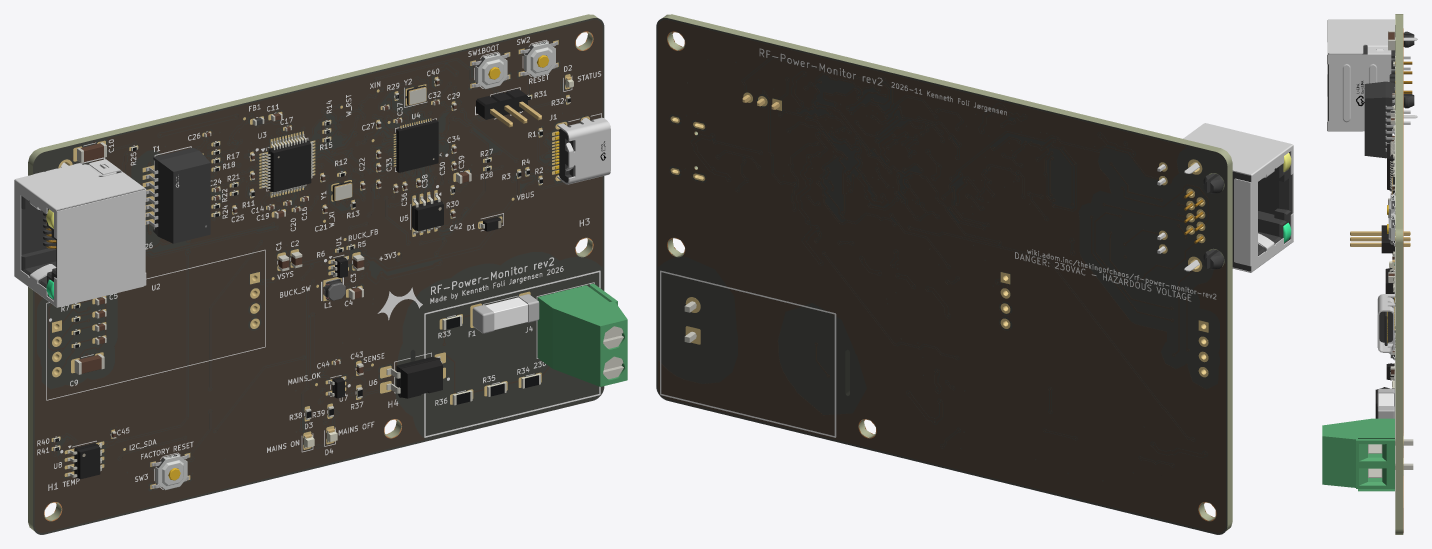
File: rf-power-monitor-rev2.glb
The picture shows the model from 3 angles, left to right: view 1: azimuth 30°, elevation 25°; view 2: azimuth 150°, elevation 25°; view 3: azimuth 270°, elevation 25°; orthographic projection. The views are drawn at different scales.
Visible parts, largest first — view 1: =>[0:1:1:79], =>[0:1:1:74], =>[0:1:1:81], =>[0:1:1:63], =>[0:1:1:77], =>[0:1:1:69], adom-aiflow silk clip, =>[0:1:1:18], =>[0:1:1:38], =>[0:1:1:3] (×3), =>[0:1:1:42], =>[0:1:1:59] (×2) (+5 smaller); view 2: =>[0:1:1:80], =>[0:1:1:74], =>[0:1:1:81], =>[0:1:1:63], =>[0:1:1:78], adom-aiflow silk clip, =>[0:1:1:75]; view 3: =>[0:1:1:63], =>[0:1:1:69], =>[0:1:1:81], =>[0:1:1:18], =>[0:1:1:38], =>[0:1:1:65], =>[0:1:1:71], =>[0:1:1:74], =>[0:1:1:3] (×2), =>[0:1:1:42], =>[0:1:1:59], =>[0:1:1:22].
Boxes of the visible parts, left/top/right/bottom form: =>[0:1:1:79]: left=33, top=18, right=604, bottom=534; =>[0:1:1:74]: left=35, top=20, right=601, bottom=532; =>[0:1:1:81]: left=28, top=14, right=603, bottom=533; =>[0:1:1:63]: left=14, top=159, right=146, bottom=307; =>[0:1:1:77]: left=33, top=36, right=601, bottom=490; =>[0:1:1:69]: left=537, top=283, right=627, bottom=386; adom-aiflow silk clip: left=51, top=40, right=589, bottom=489; =>[0:1:1:18]: left=146, top=147, right=210, bottom=243; =>[0:1:1:38]: left=555, top=117, right=610, bottom=184; =>[0:1:1:3] (×3): left=151, top=41, right=557, bottom=490; =>[0:1:1:42]: left=261, top=133, right=313, bottom=195; =>[0:1:1:59] (×2): left=67, top=192, right=443, bottom=479; =>[0:1:1:80]: left=656, top=18, right=1227, bottom=534; =>[0:1:1:74]: left=658, top=20, right=1225, bottom=532; =>[0:1:1:81]: left=657, top=14, right=1232, bottom=533; =>[0:1:1:63]: left=1157, top=123, right=1293, bottom=272; =>[0:1:1:78]: left=660, top=48, right=1216, bottom=437; adom-aiflow silk clip: left=670, top=92, right=1208, bottom=377; =>[0:1:1:75]: left=671, top=94, right=1208, bottom=375; =>[0:1:1:63]: left=1327, top=19, right=1417, bottom=131; =>[0:1:1:69]: left=1322, top=418, right=1413, bottom=491; =>[0:1:1:81]: left=1395, top=14, right=1403, bottom=534; =>[0:1:1:18]: left=1364, top=81, right=1394, bottom=158; =>[0:1:1:38]: left=1377, top=294, right=1395, bottom=352; =>[0:1:1:65]: left=1350, top=225, right=1410, bottom=253; =>[0:1:1:71]: left=1377, top=388, right=1394, bottom=418; =>[0:1:1:74]: left=1403, top=28, right=1403, bottom=532; =>[0:1:1:3] (×2): left=1387, top=192, right=1395, bottom=246; =>[0:1:1:42]: left=1387, top=140, right=1394, bottom=191; =>[0:1:1:59]: left=1385, top=269, right=1394, bottom=293; =>[0:1:1:22]: left=1388, top=31, right=1394, bottom=50.
Size of the model in its own units: 0.1036 by 0.064 by 0.0181.
